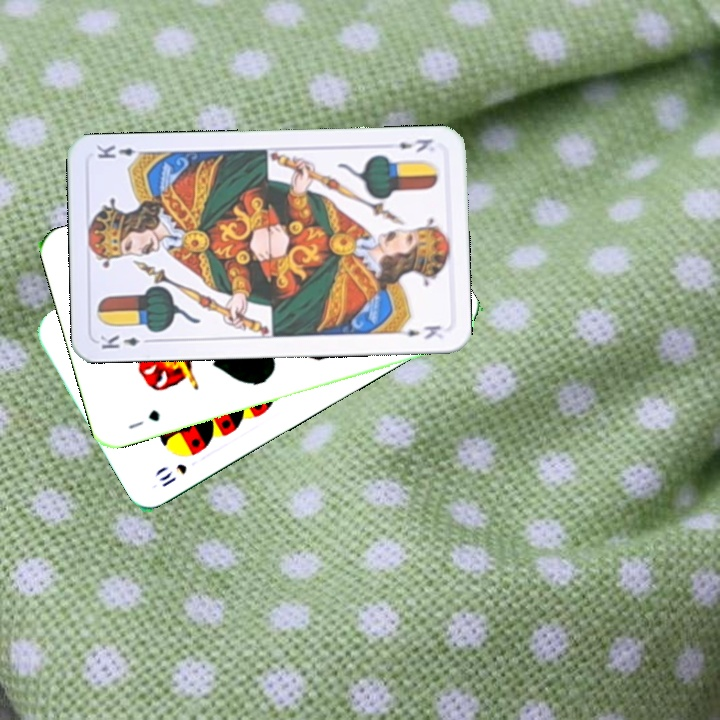EK: (96, 331, 155, 352), (394, 135, 435, 155)
GU: (124, 406, 162, 432)
S10: (155, 459, 190, 490)
